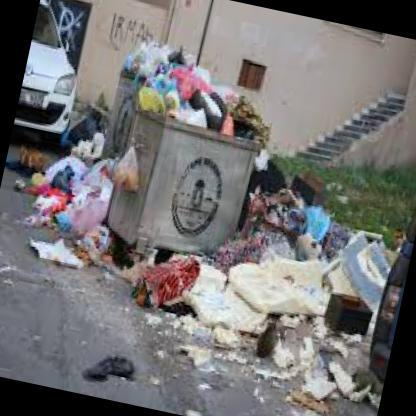Garbage: (128, 252, 324, 369), (232, 172, 341, 342), (304, 228, 392, 404), (20, 158, 129, 276), (143, 72, 267, 128), (124, 41, 197, 86), (71, 134, 104, 185)
